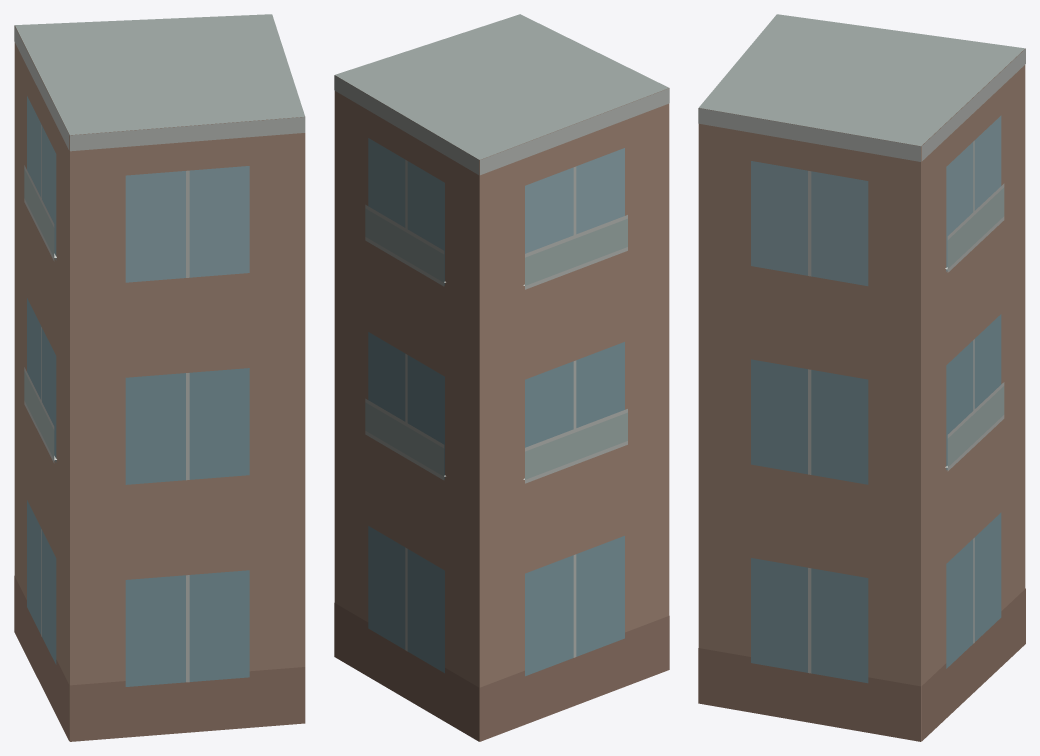
The model's file is survey-upis-32470492.glb.
The picture shows the model from 3 angles, left to right: view 1: azimuth 30°, elevation 25°; view 2: azimuth 150°, elevation 25°; view 3: azimuth 270°, elevation 25°; orthographic projection. The views are drawn at different scales.
Visible parts, largest first — view 1: survey-upis-32470492.tmp; view 2: survey-upis-32470492.tmp; view 3: survey-upis-32470492.tmp.
Part boxes in pixels (x1=…): survey-upis-32470492.tmp: x1=14, y1=14, x2=305, y2=741; survey-upis-32470492.tmp: x1=334, y1=14, x2=669, y2=741; survey-upis-32470492.tmp: x1=698, y1=14, x2=1025, y2=741.
Size of the model in its own units: 4.36 by 9.15 by 4.56.
